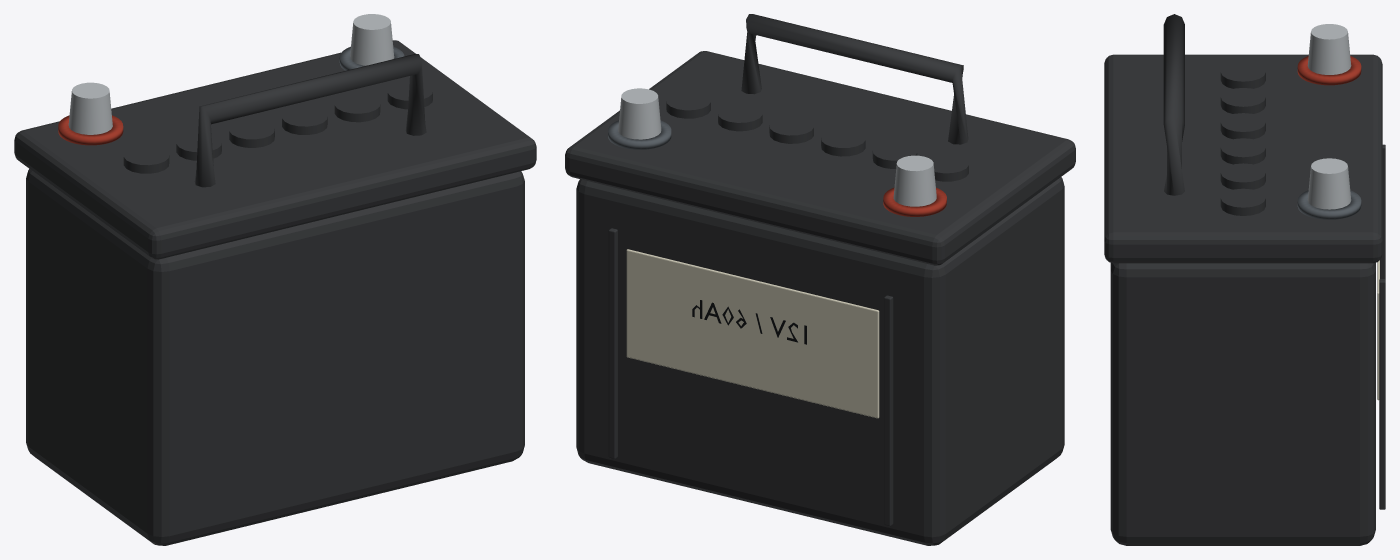
File: car_battery.glb
3 renders of one model, left to right at view 1: azimuth 30°, elevation 25°; view 2: azimuth 150°, elevation 25°; view 3: azimuth 270°, elevation 25°, orthographic. The views are drawn at different scales.
Visible parts, largest first — view 1: car_battery; view 2: car_battery; view 3: car_battery.
Boxes of the visible parts, <box> form: car_battery: <box>14,14,536,545</box>; car_battery: <box>565,14,1075,545</box>; car_battery: <box>1104,14,1385,545</box>.
Size of the model in its own units: 0.33 by 0.3297 by 0.2125.
